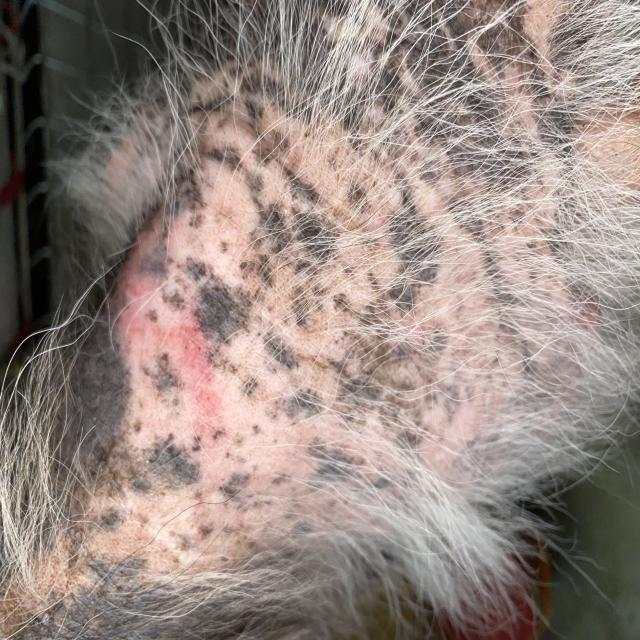demodicosis: (89, 186, 413, 614)
